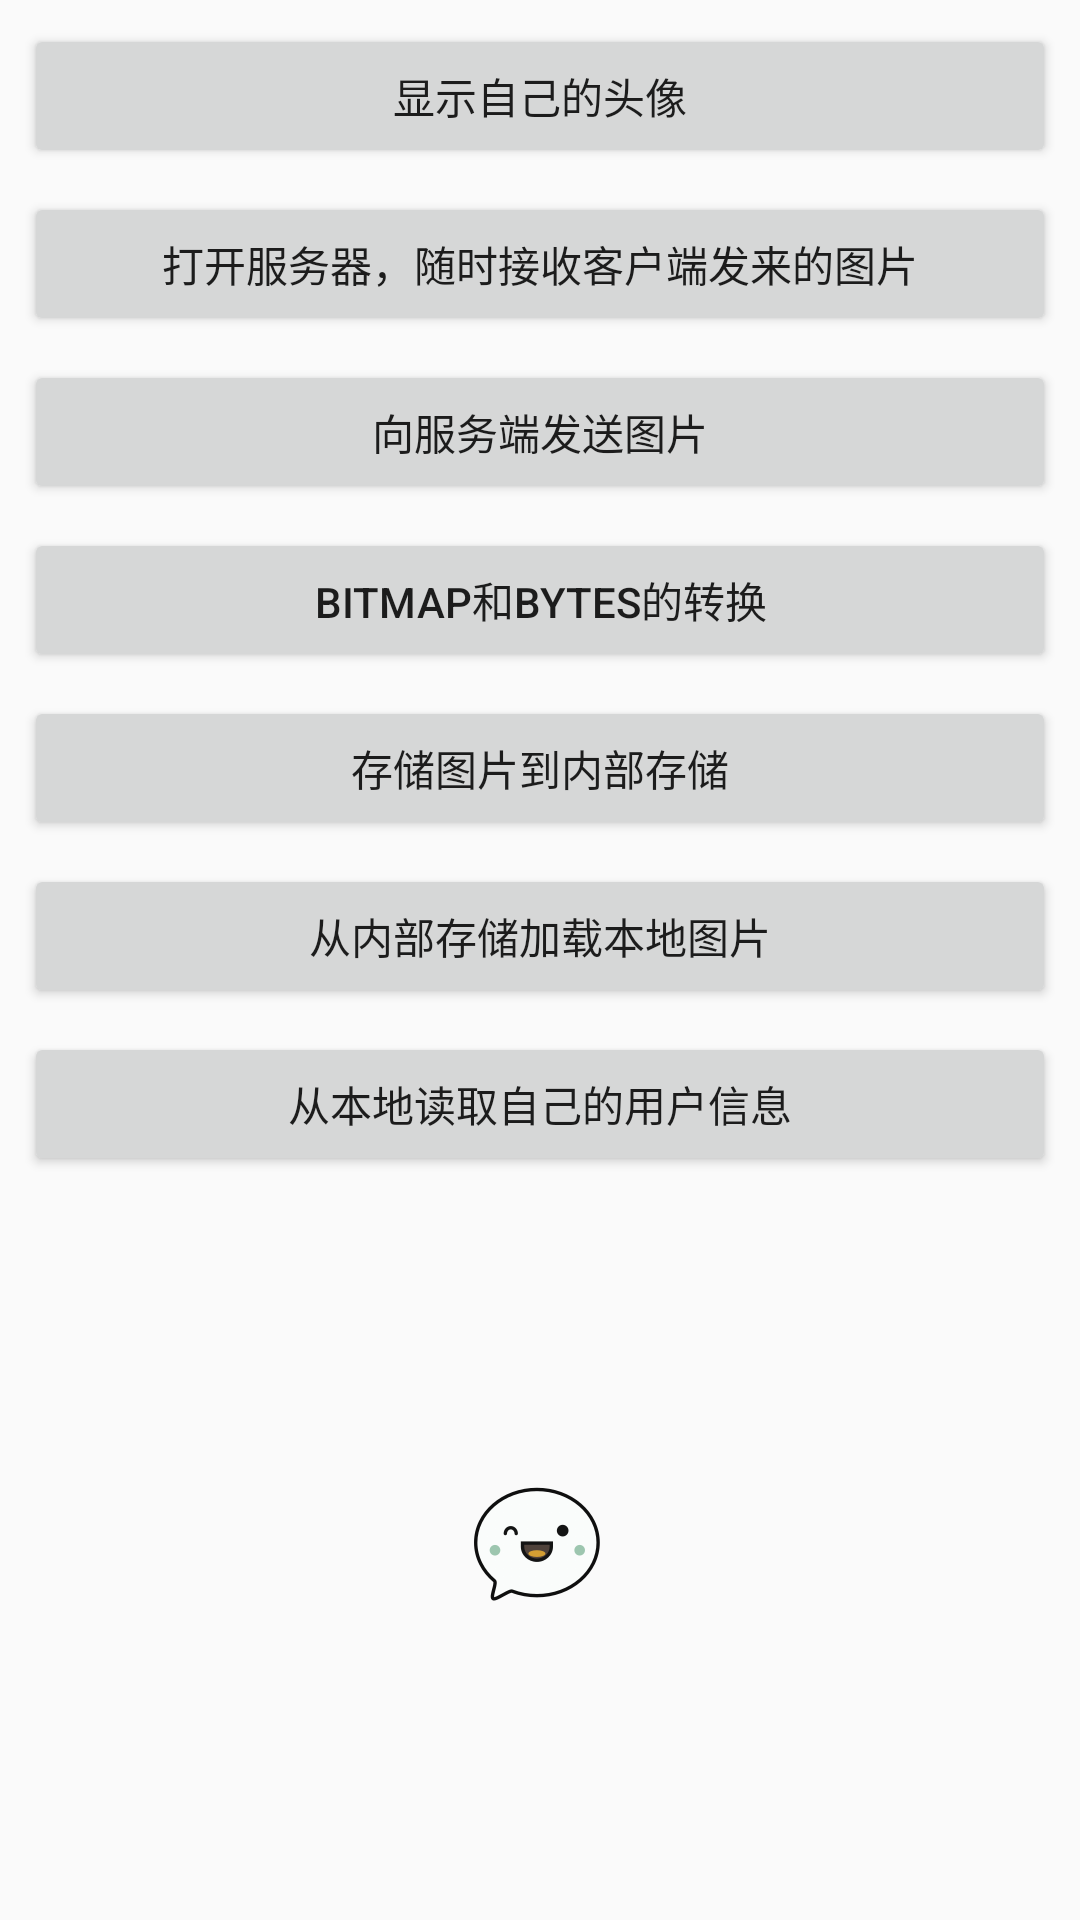

Screen size 1080*1920. Icon name, then its box in pixels as bbox(x1, y1, x2, y2):
chat: bbox(474, 1487, 600, 1601)
